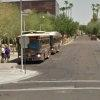Bus: (13, 26, 65, 63)
